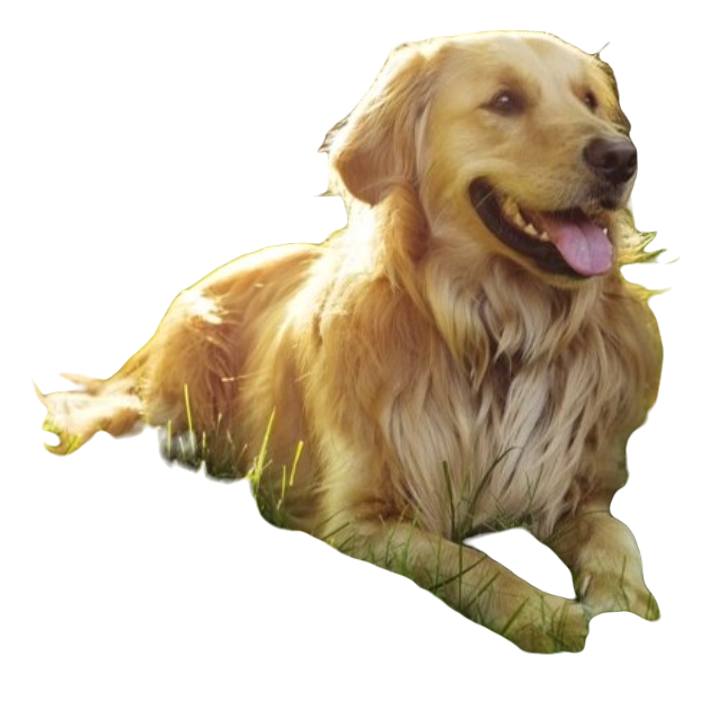Dog: (39, 27, 692, 650)
